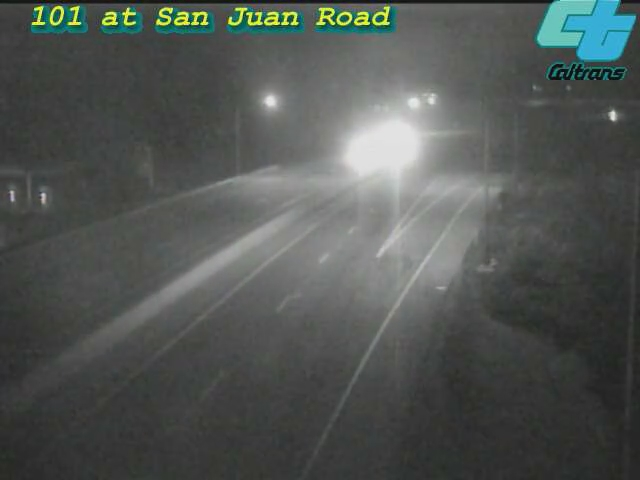vehicle: (584, 91, 634, 141), (349, 126, 399, 176), (370, 117, 420, 167)
